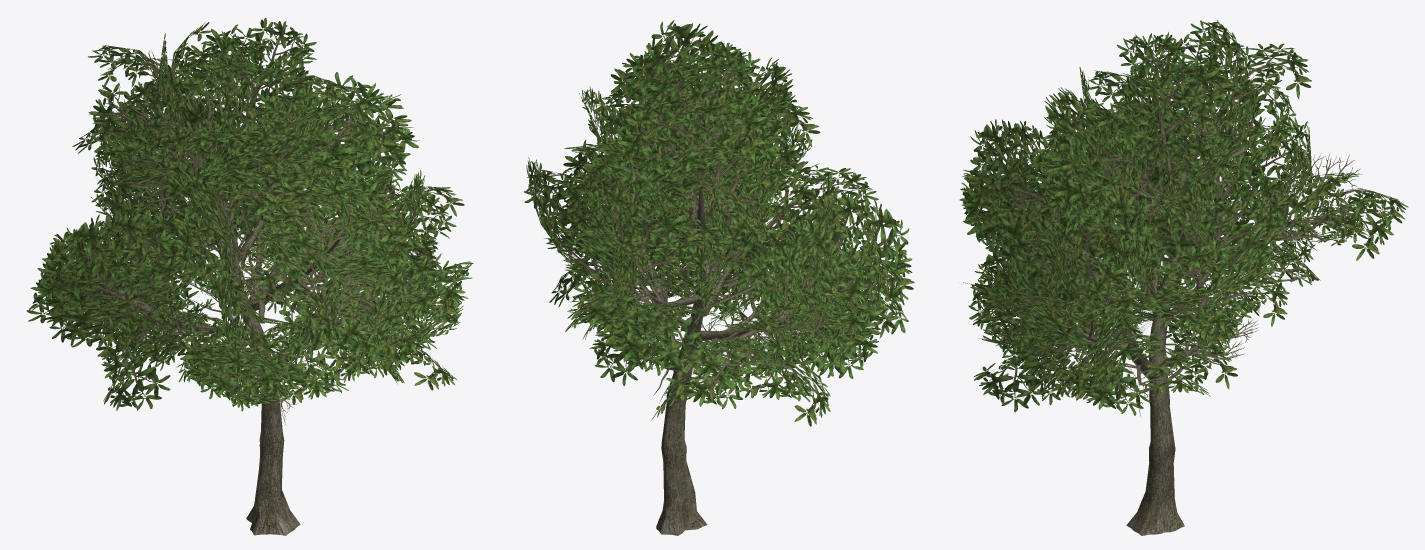
File: tree_mango_01.fbx
The picture shows the model from 3 angles, left to right: view 1: azimuth 30°, elevation 25°; view 2: azimuth 150°, elevation 25°; view 3: azimuth 270°, elevation 25°; orthographic projection. The views are drawn at different scales.
Parts seen in each view (by area): view 1: tree_mango_01; view 2: tree_mango_01; view 3: tree_mango_01.
Part boxes in pixels (x1,y1,x2,y2): tree_mango_01: (26, 18, 473, 535); tree_mango_01: (524, 20, 914, 535); tree_mango_01: (959, 19, 1408, 535).
Bounding box in the file's own units: 243 × 238 × 272.
